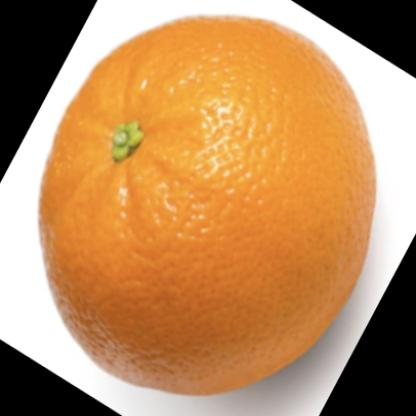fresh: (37, 14, 377, 395)
